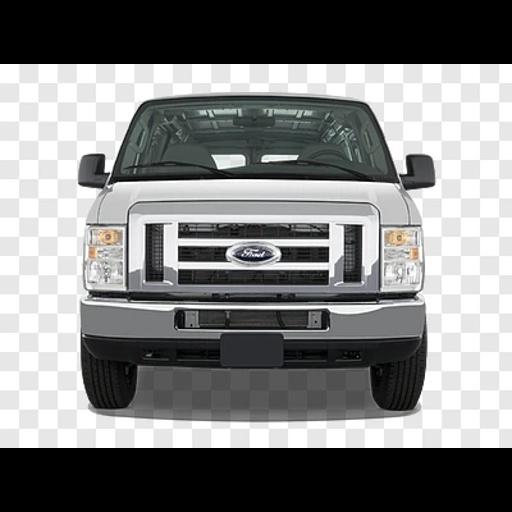van: (79, 94, 433, 408)
